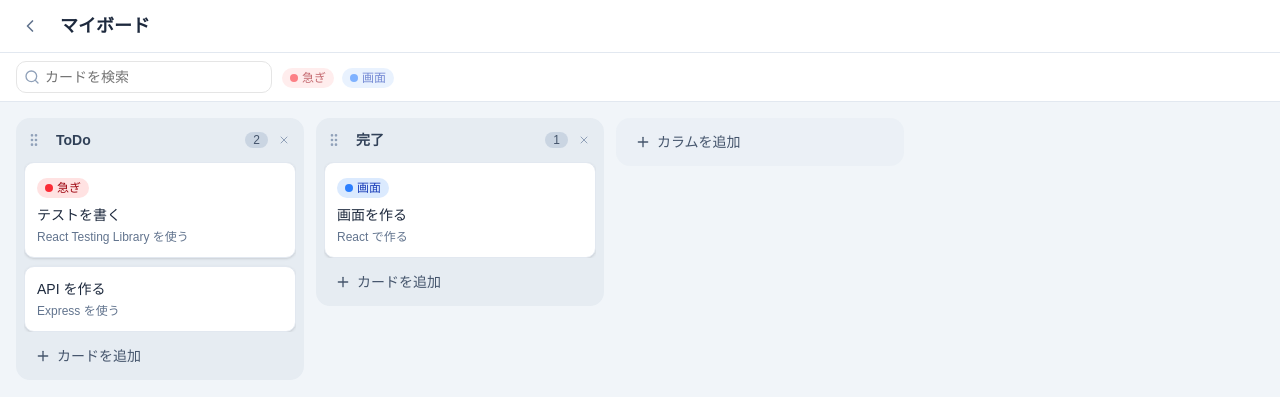
it: カードの絞り込み › 文字とラベルの両方を指定すると、両方に合うカードだけが残る
Expected: the heading "マイボード" is shown, [52, 8, 1264, 44]
Type "react" into the search field labelled "カードを検索" at (144, 77), box [16, 61, 272, 93]
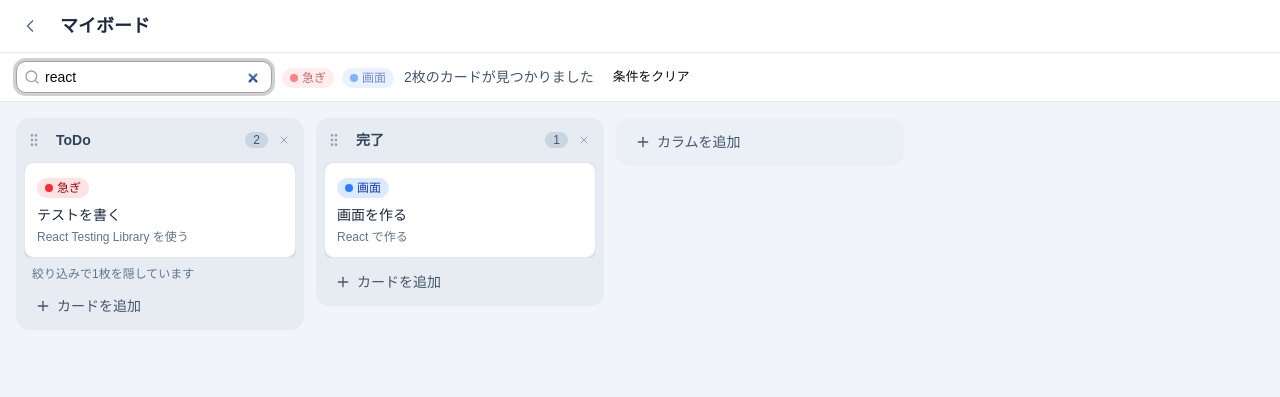
Click the button "急ぎ" at (308, 77), box [280, 63, 336, 91]
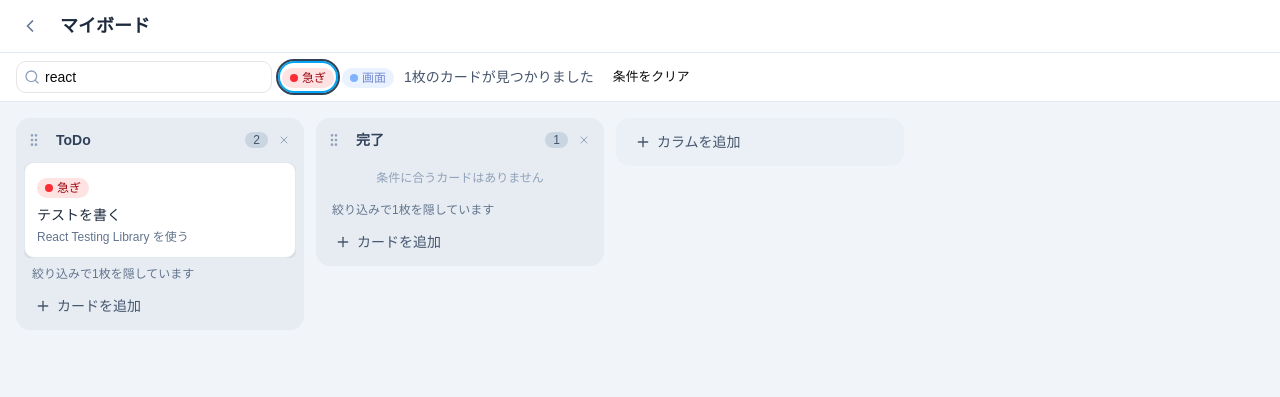
Now the message reads "1枚のカードが見つかりました", box [404, 69, 594, 85]
